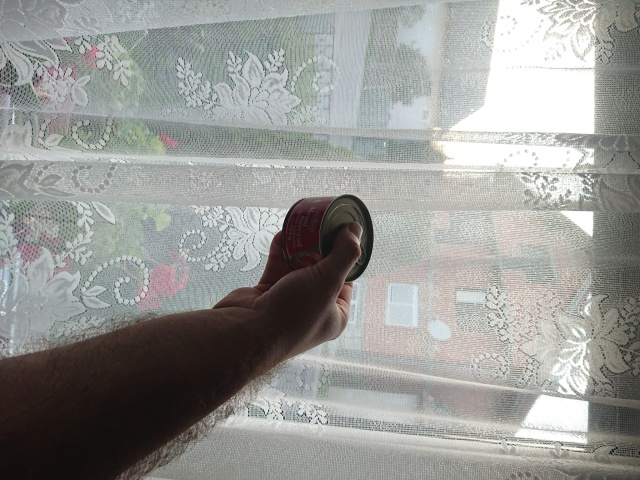Podravka Luncheon Meat 150g: (280, 192, 377, 286)
